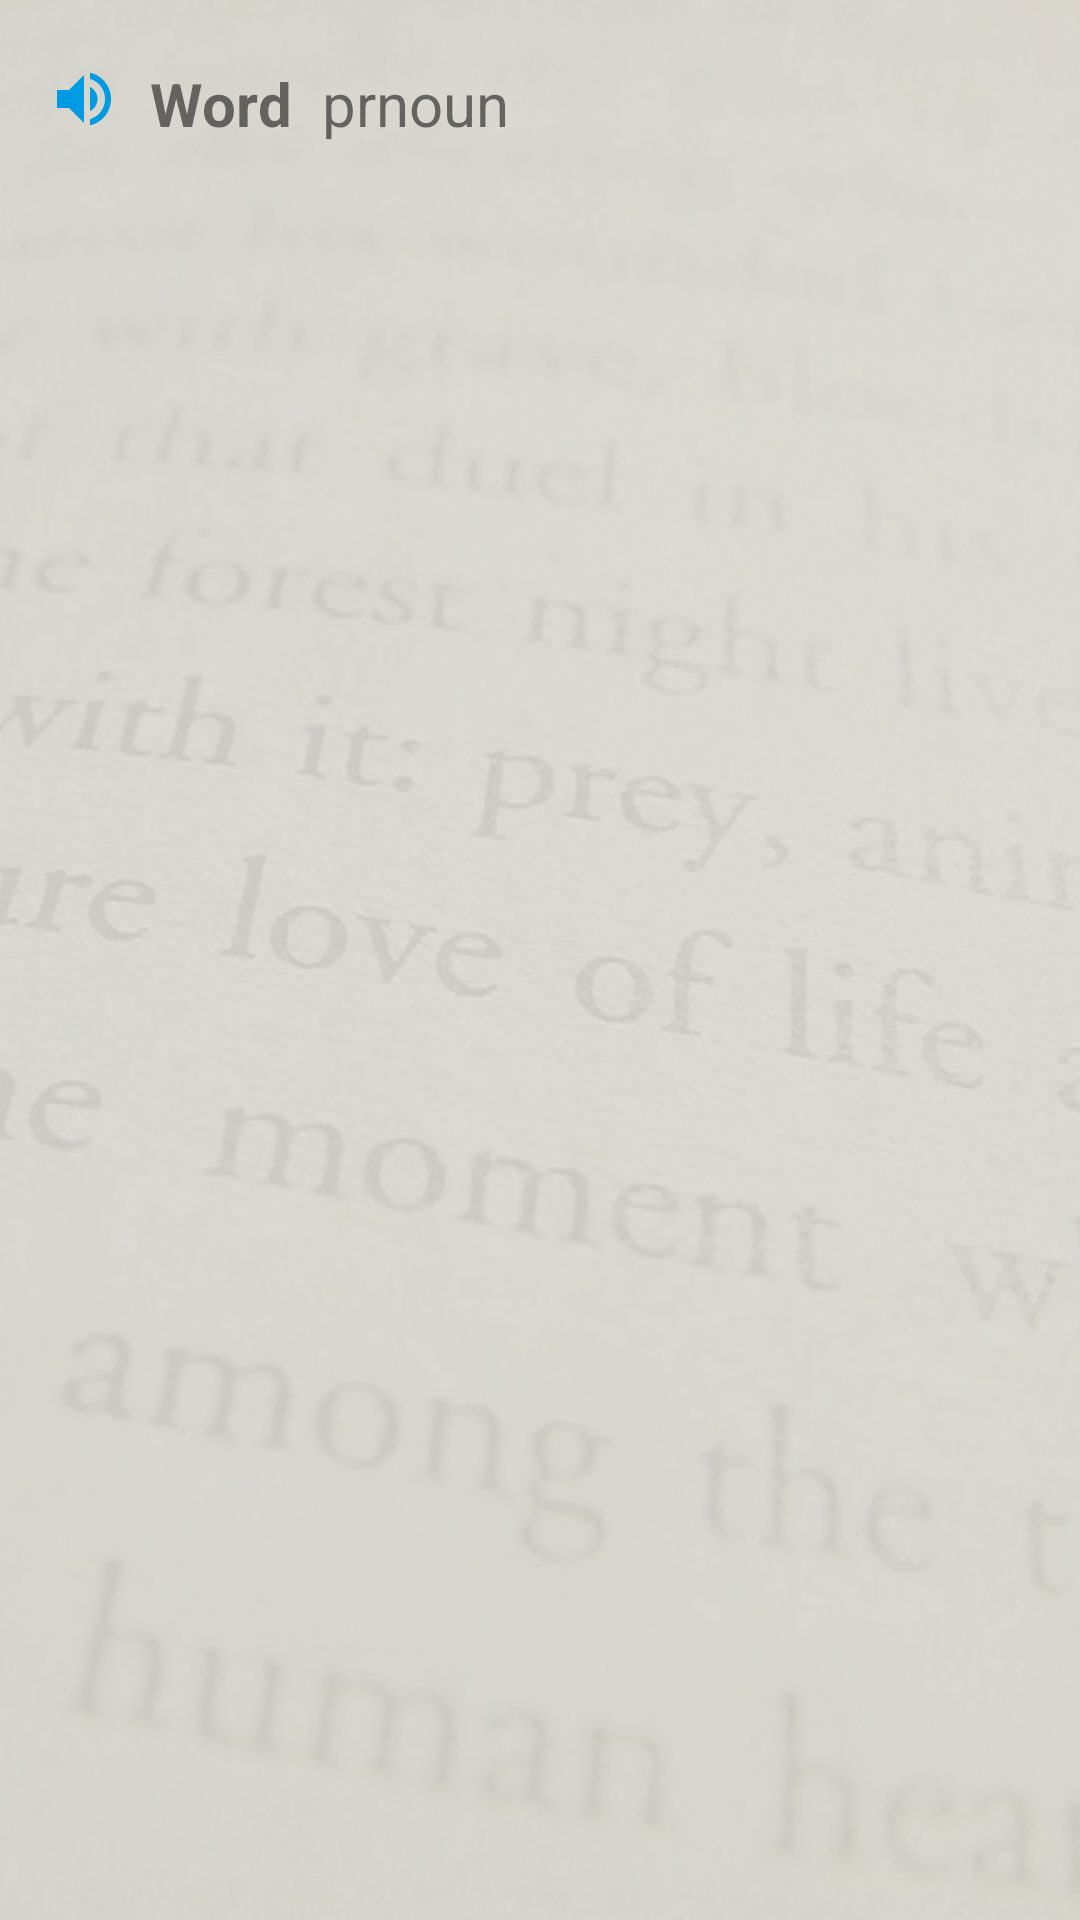

Icon bounding boxes for this 1080w x 1920h phone screenshot, format (x1, y1, x2, y2):
audio: (57, 72, 111, 126)
